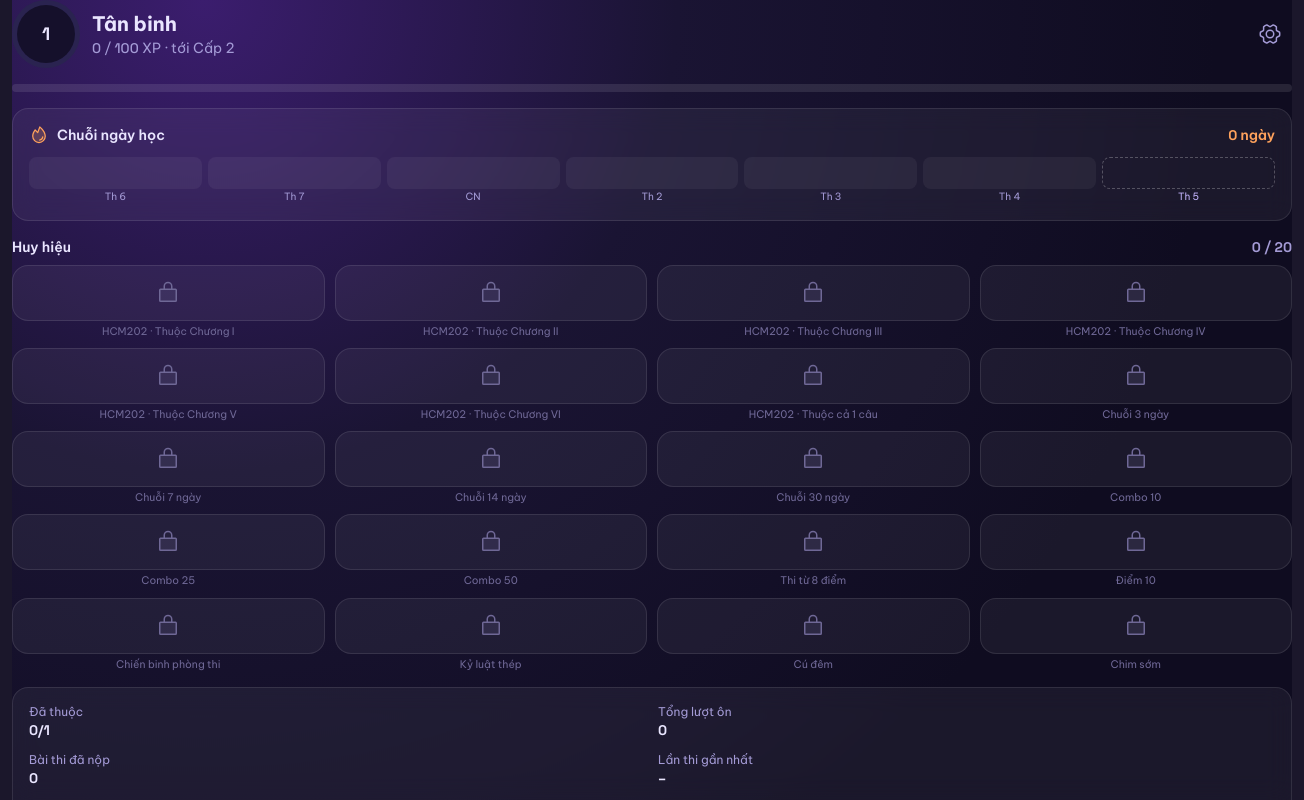
it: bấm vào huy hiệu chưa mở thì hiện điều kiện
Click the button "Chuỗi 3 ngày": [1136, 385] box [980,348,1292,421]
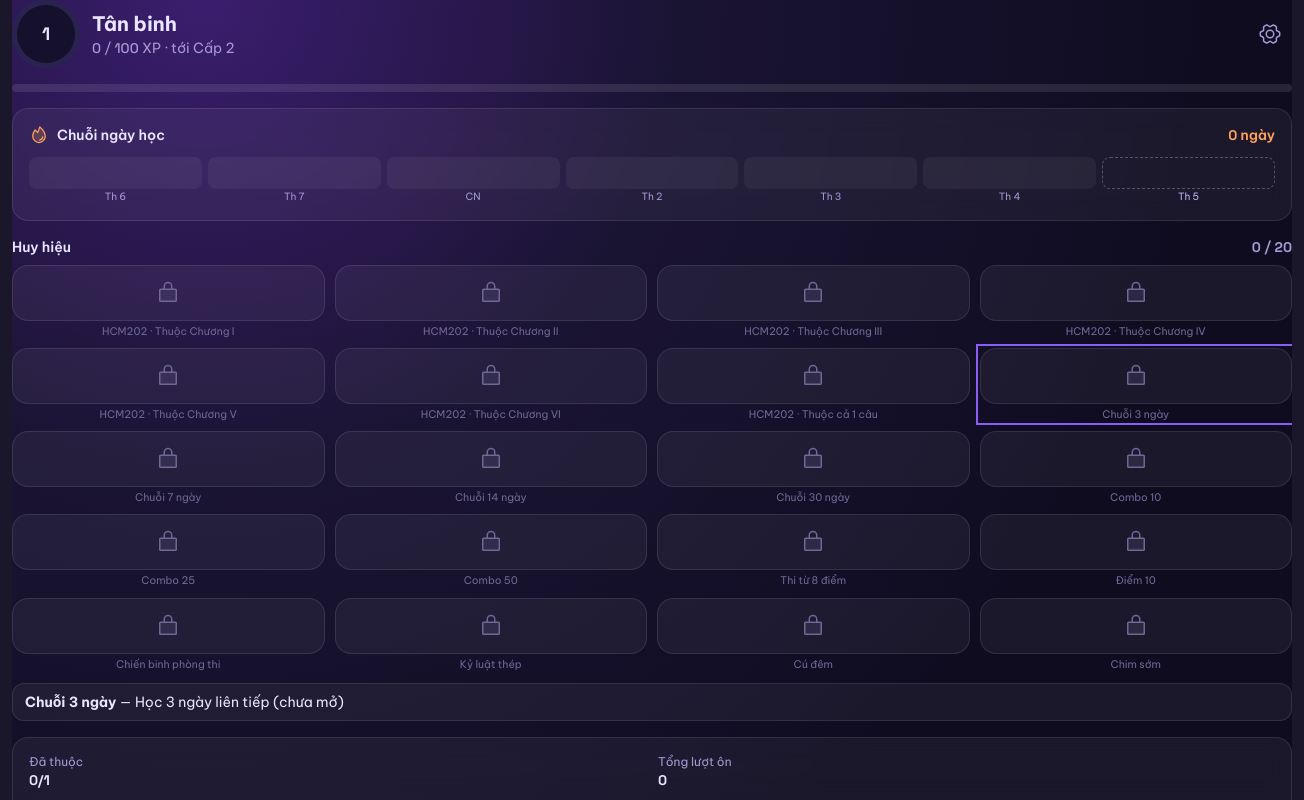
Result: the message shows "Học 3 ngày liên tiếp" at [135,693,270,711]
Result: the message shows "chưa mở" at [279,693,338,711]
